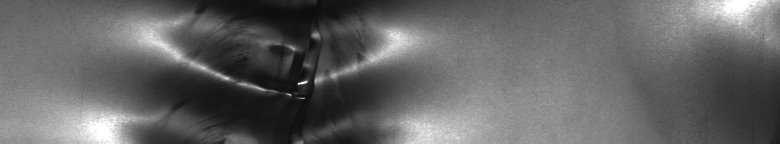ke: (114, 4, 392, 136)
